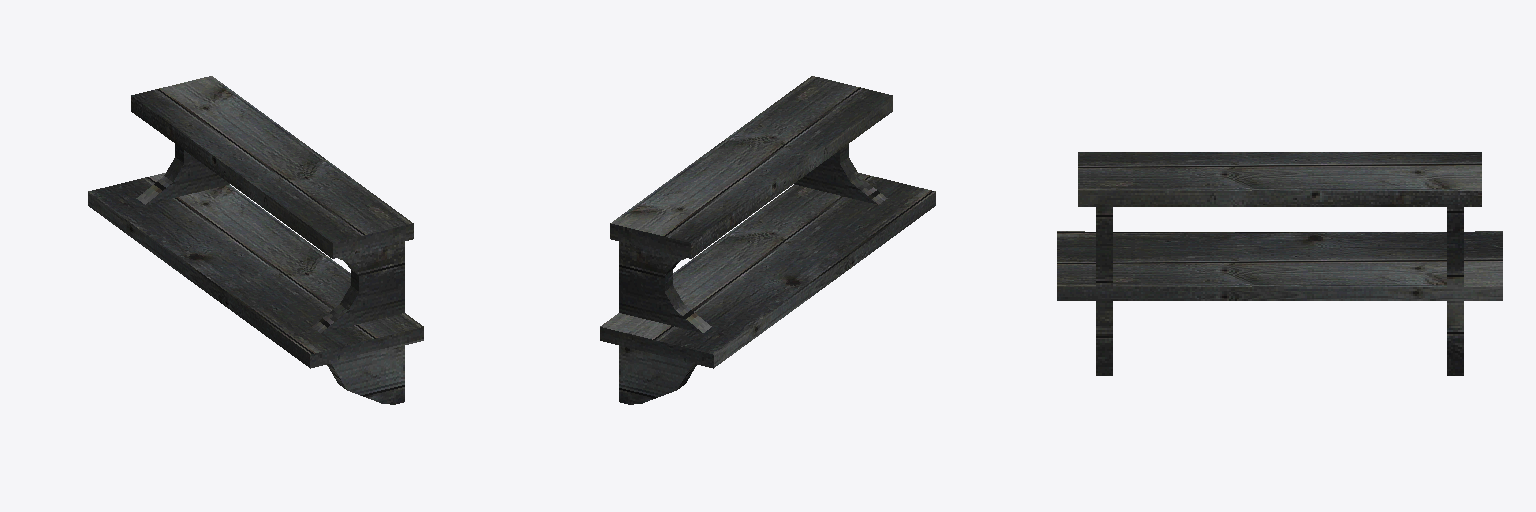
The picture shows the model from 3 angles: view 1: azimuth 30°, elevation 25°; view 2: azimuth 150°, elevation 25°; view 3: azimuth 270°, elevation 25°; orthographic projection.
Visible parts, largest first — view 1: default; view 2: default; view 3: default.
Boxes of the visible parts, box(x1,y1,x2,y2) form: default: box(88, 76, 423, 404); default: box(600, 76, 935, 404); default: box(1057, 152, 1502, 375).
Size of the model in its own units: 33.56 by 52.22 by 114.
1 materials, 1 textured.